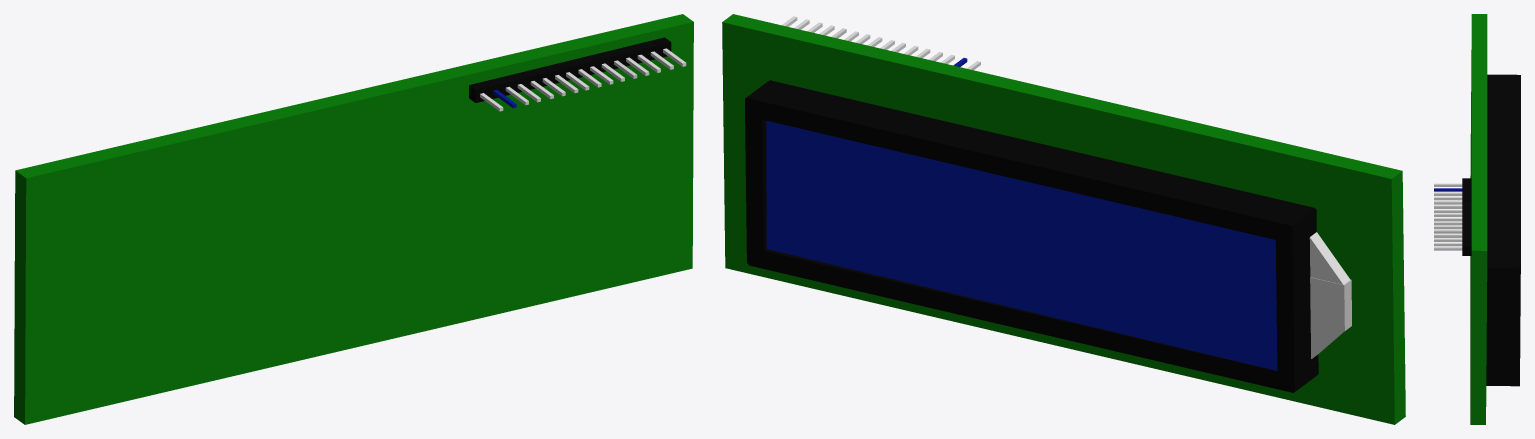
File: lcd.fbx
3 renders of one model, left to right at view 1: azimuth 30°, elevation 25°; view 2: azimuth 150°, elevation 25°; view 3: azimuth 270°, elevation 25°, orthographic. The views are drawn at different scales.
Visible parts, largest first — view 1: Cube.001; view 2: Cube.052, Cube.001, Cube.005, Cube.012; view 3: Cube.005, Cube.001, Cube.081, Cube.086, Cube.087, Cube.088, Cube.092, Cube.077, Cube.078, Cube.080, Cube.082, Cube.083 (+7 smaller).
Boxes of the visible parts, x1=… form: Cube.001: x1=14, y1=14, x2=693, y2=424; Cube.052: x1=766, y1=120, x2=1277, y2=370; Cube.001: x1=722, y1=14, x2=1405, y2=424; Cube.005: x1=745, y1=80, x2=1318, y2=392; Cube.012: x1=1309, y1=232, x2=1351, y2=358; Cube.005: x1=1486, y1=74, x2=1520, y2=386; Cube.001: x1=1470, y1=14, x2=1487, y2=424; Cube.081: x1=1434, y1=196, x2=1462, y2=200; Cube.086: x1=1434, y1=217, x2=1462, y2=221; Cube.087: x1=1434, y1=221, x2=1462, y2=225; Cube.088: x1=1434, y1=225, x2=1462, y2=229; Cube.092: x1=1434, y1=242, x2=1462, y2=246; Cube.077: x1=1462, y1=242, x2=1471, y2=255; Cube.078: x1=1434, y1=188, x2=1462, y2=191; Cube.080: x1=1434, y1=192, x2=1462, y2=195; Cube.082: x1=1434, y1=201, x2=1462, y2=204; Cube.083: x1=1434, y1=205, x2=1462, y2=208.
Bounding box in the file's own units: 699 × 251 × 110.
